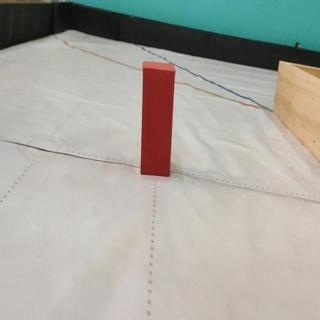redbox: (141, 59, 176, 177)
